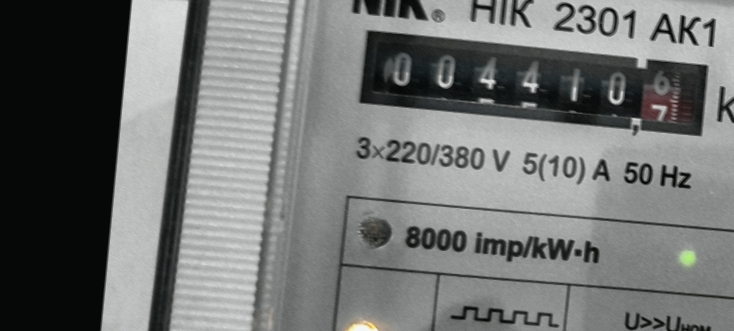0: (388, 47, 413, 87), (604, 68, 627, 105), (434, 49, 455, 89)
1: (565, 64, 582, 102)
4: (517, 55, 543, 96), (475, 50, 500, 90)
6: (652, 67, 672, 95)
7: (647, 100, 668, 121)
screen: (346, 15, 721, 148)
